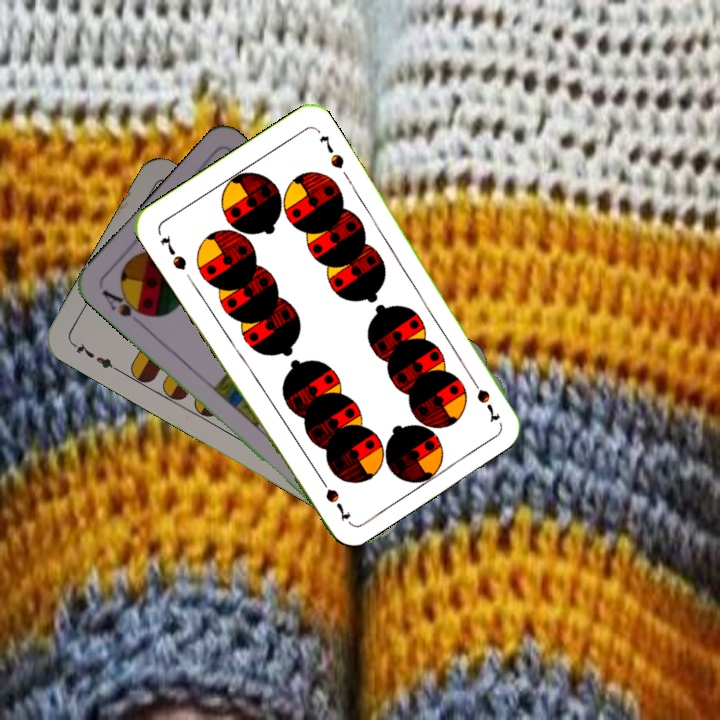E7: (68, 338, 122, 374)
S7: (465, 372, 503, 425), (156, 232, 190, 273)
SA: (98, 285, 152, 320)
